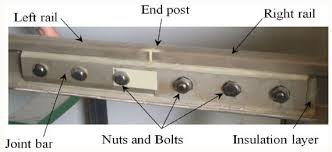insulated joint: (20, 51, 310, 117)
